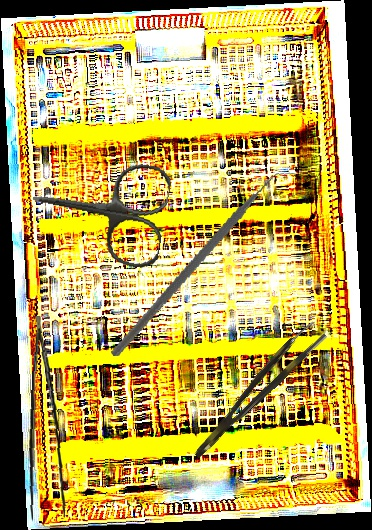Chopper: (110, 147, 299, 382)
Iris Scissors: (24, 146, 174, 271)
Tissue Forceps: (183, 319, 328, 460), (24, 316, 76, 523)
